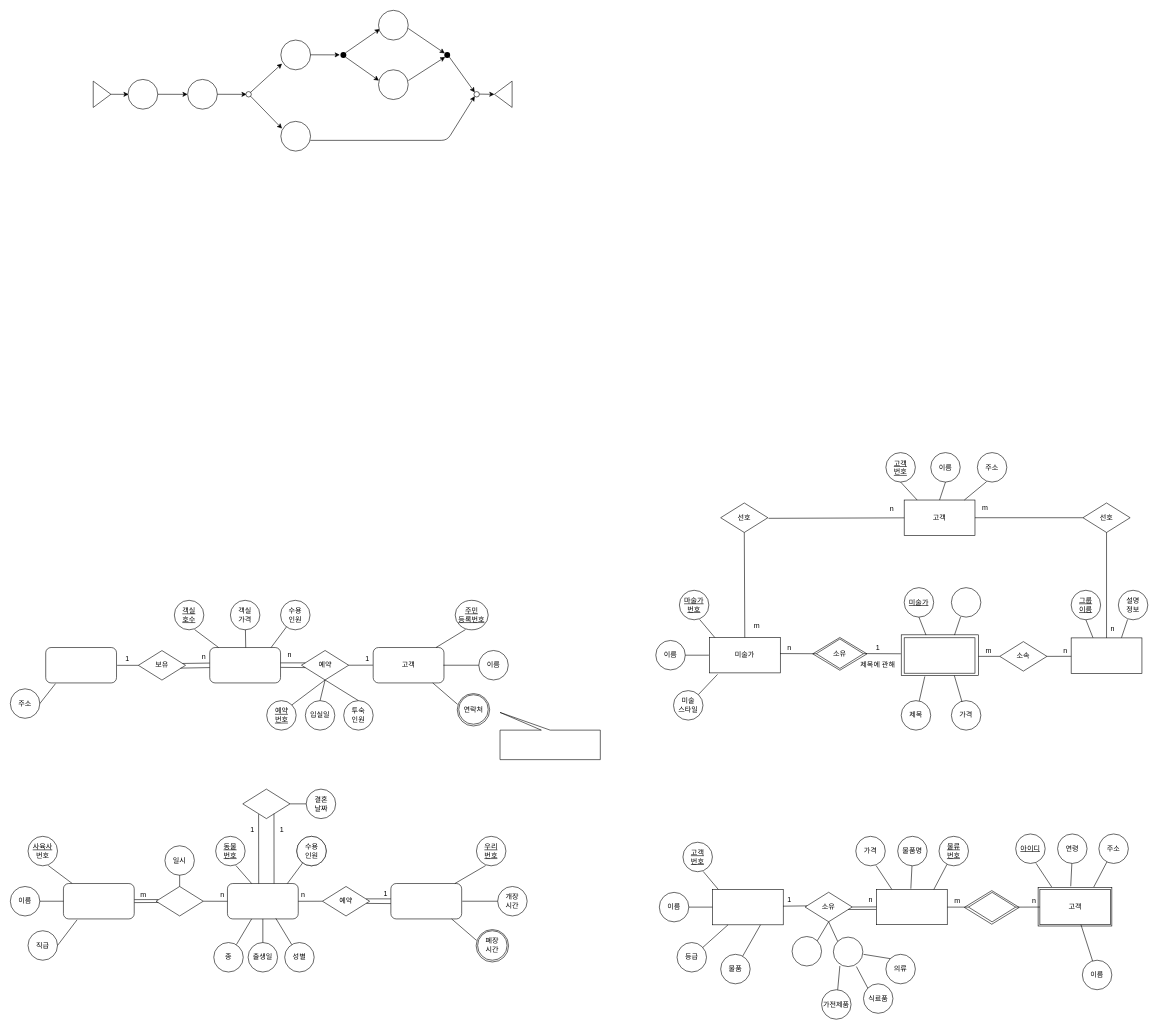
This 1158x1030 diagram has some shape labels left out. The shapes that lost their labels are listed below. From the top down, each one's box as (x1, y1, x2, y2) in pixels, then its label:
(951, 587, 981, 617): 제작 연도
(45, 647, 117, 683): 호텔
(209, 647, 281, 683): 객실
(904, 637, 975, 673): 미술품
(1071, 637, 1142, 673): 그룹
(499, 712, 600, 760): 예약 고객만 관리 동반 고객은 관리하지 않음
(242, 789, 290, 819): 결혼
(63, 883, 134, 919): 사육사
(155, 886, 203, 916): 사육
(227, 883, 298, 919): 동물
(390, 883, 462, 919): 우리(cage)
(712, 889, 783, 925): 쇼핑몰
(876, 889, 947, 925): 판매 물품
(968, 892, 1016, 922): 생산
(791, 936, 822, 966): 재고 수
(833, 937, 863, 967): 종류
